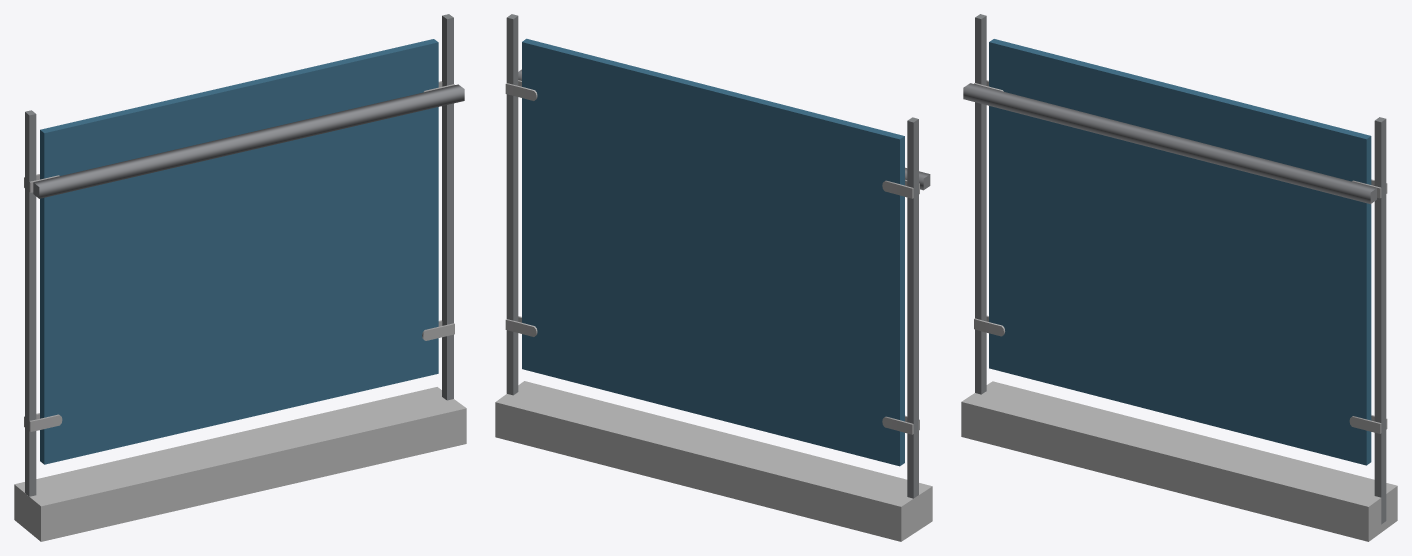
The model's file is MCM_2W_Block_002.fbx.
3 views of the same model, side by side, from view 1: azimuth 30°, elevation 25°; view 2: azimuth 150°, elevation 25°; view 3: azimuth 330°, elevation 25° (orthographic).
Visible parts, largest first — view 1: MCM_2W_Block_002; view 2: MCM_2W_Block_002; view 3: MCM_2W_Block_002.
Part boxes in pixels (left/top/right/bottom): MCM_2W_Block_002: left=14, top=14, right=466, bottom=541; MCM_2W_Block_002: left=495, top=14, right=932, bottom=541; MCM_2W_Block_002: left=961, top=14, right=1397, bottom=541.
Size of the model in its own units: 1.23 by 0.1801 by 1.17.
Materials: 3 (3 with a texture image).
